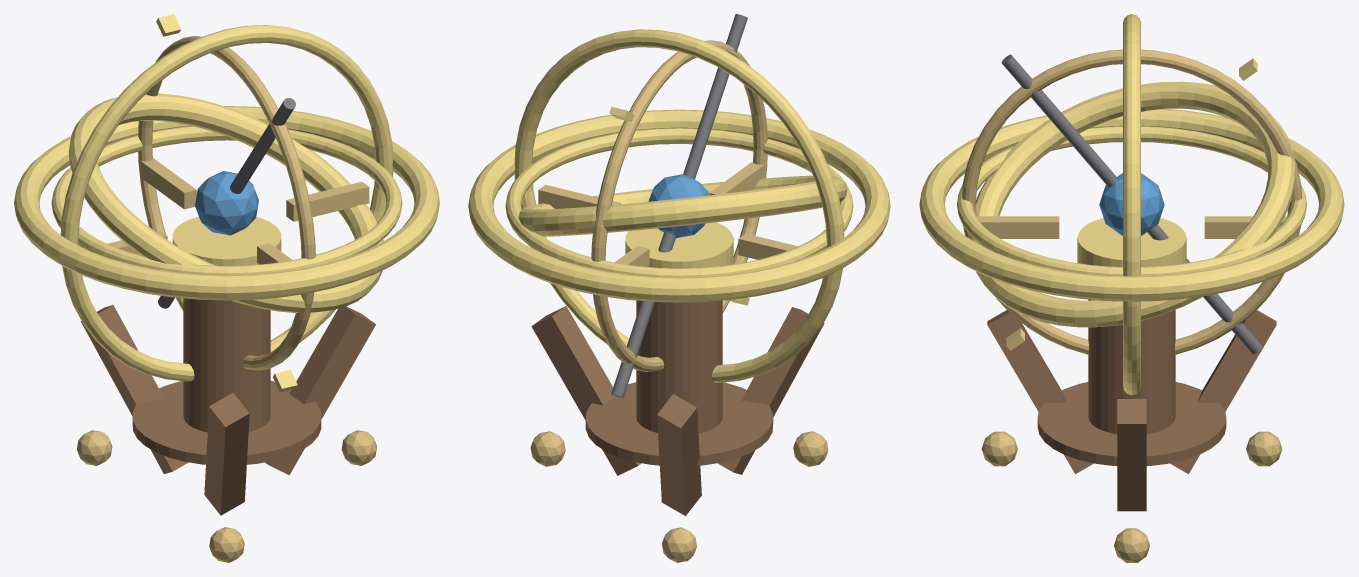
Rendered from armillary_sphere.glb.
3 renders of one model, left to right at view 1: azimuth 30°, elevation 25°; view 2: azimuth 150°, elevation 25°; view 3: azimuth 270°, elevation 25°, orthographic.
Parts seen in each view (by area): view 1: Torus, Torus.001, Torus.004, Cylinder, Torus.002, Cylinder.002, Torus.003, Cube, Cube.002, Cylinder.001, Cube.001, Icosphere.003 (+6 smaller); view 2: Torus, Torus.001, Torus.004, Torus.002, Cylinder, Cylinder.002, Torus.003, Cube, Cube.001, Cylinder.003, Cylinder.001, Cube.002 (+7 smaller); view 3: Torus, Torus.004, Torus.003, Torus.002, Cylinder.002, Cylinder, Torus.001, Cylinder.001, Cube, Cylinder.003, Cube.002, Cube.001 (+6 smaller).
Part boxes in pixels (x1,y1,x2,y2): Torus: [14, 106, 439, 300]; Torus.001: [60, 25, 393, 381]; Torus.004: [68, 93, 383, 312]; Cylinder: [183, 298, 270, 432]; Torus.002: [51, 126, 402, 274]; Cylinder.002: [132, 381, 321, 464]; Torus.003: [138, 36, 315, 370]; Cube: [265, 306, 375, 475]; Cube.002: [204, 393, 249, 515]; Cylinder.001: [172, 216, 281, 265]; Cube.001: [80, 305, 188, 473]; Icosphere.003: [195, 171, 258, 235]; Torus: [468, 109, 890, 302]; Torus.001: [514, 29, 844, 382]; Torus.004: [518, 175, 847, 236]; Torus.002: [505, 128, 853, 277]; Cylinder: [636, 300, 722, 433]; Cylinder.002: [585, 382, 773, 465]; Torus.003: [591, 40, 767, 371]; Cube: [531, 306, 641, 475]; Cube.001: [657, 394, 701, 515]; Cylinder.003: [611, 14, 747, 398]; Cylinder.001: [625, 222, 733, 268]; Cube.002: [717, 307, 824, 474]; Torus: [919, 109, 1344, 301]; Torus.004: [974, 81, 1295, 327]; Torus.003: [961, 49, 1302, 354]; Torus.002: [957, 126, 1306, 275]; Cylinder.002: [1037, 382, 1226, 466]; Cylinder: [1088, 299, 1175, 434]; Torus.001: [1123, 14, 1140, 394]; Cylinder.001: [1077, 218, 1186, 266]; Cube: [1117, 399, 1146, 511]; Cylinder.003: [1001, 54, 1262, 354]; Cube.002: [987, 310, 1093, 473]; Cube.001: [1170, 310, 1276, 473].
Size of the model in its own units: 1.17 by 1.41 by 1.17.
